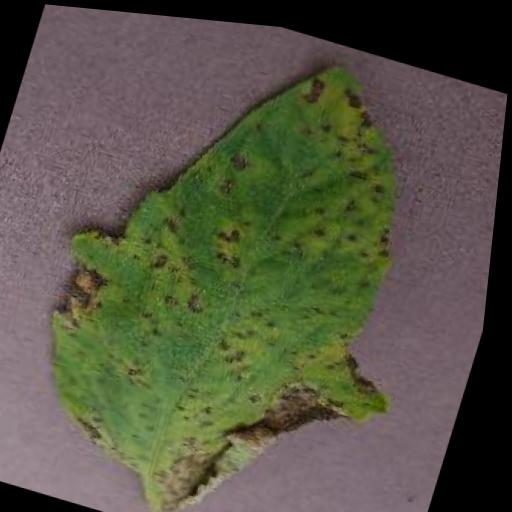Septoria: (5, 4, 482, 512)
